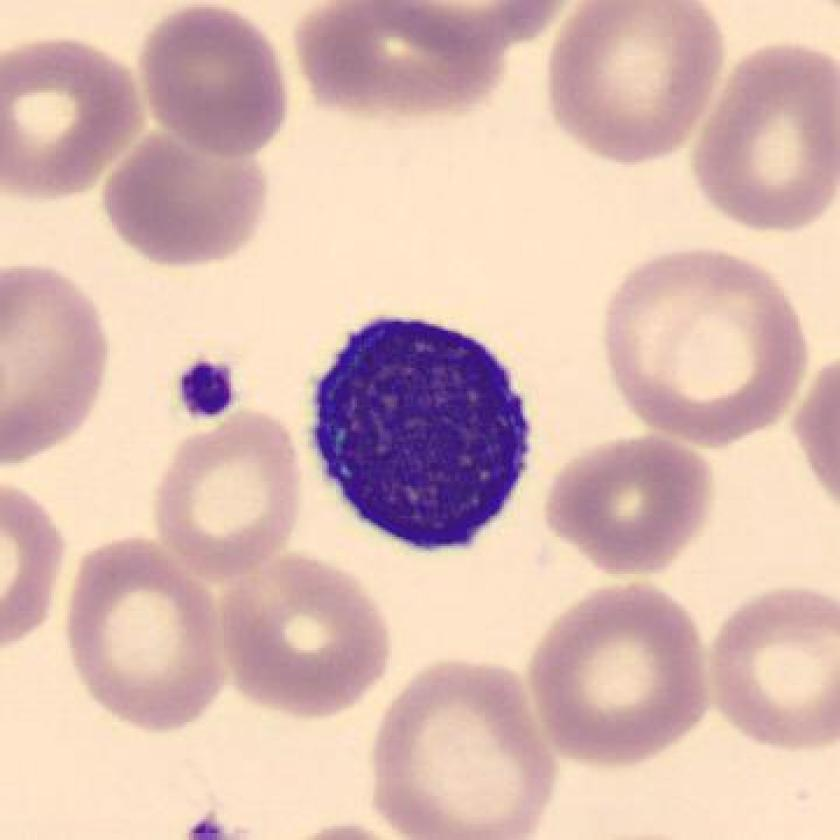lymphocyte: (297, 302, 547, 566)
platelets: (177, 353, 246, 426)
